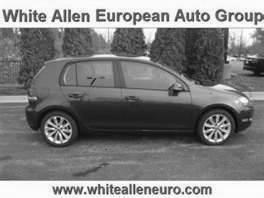car: (27, 52, 253, 151)
